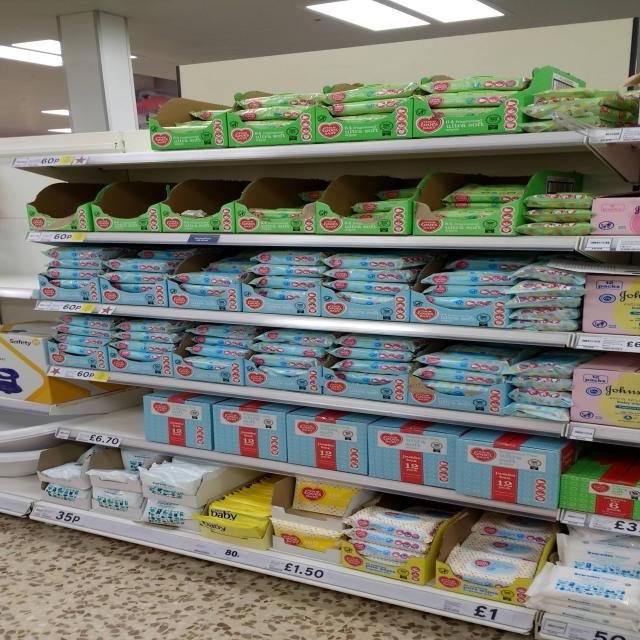void: (163, 166, 212, 247), (68, 384, 131, 443), (72, 172, 118, 242), (215, 162, 254, 242), (125, 171, 158, 246), (36, 180, 70, 247)
